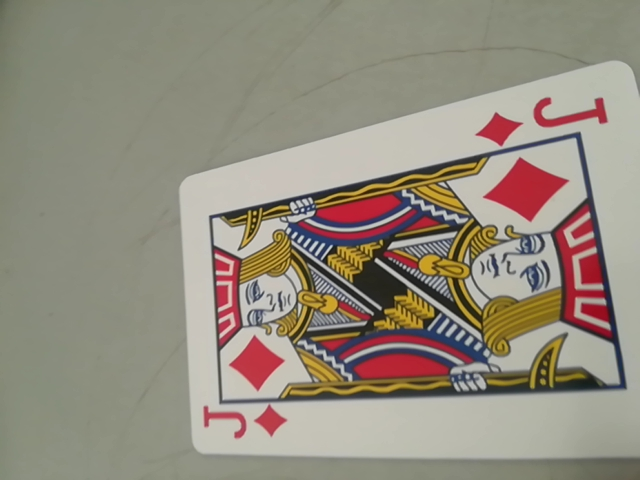fk j: (475, 85, 623, 154), (198, 398, 290, 450)
